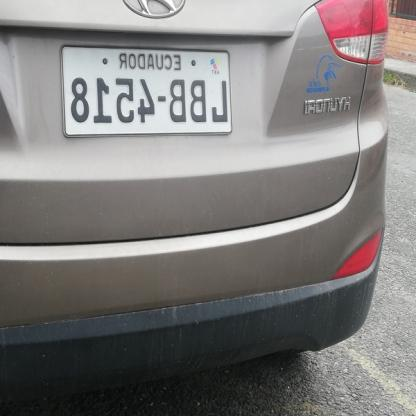Placa: (61, 45, 235, 134)
